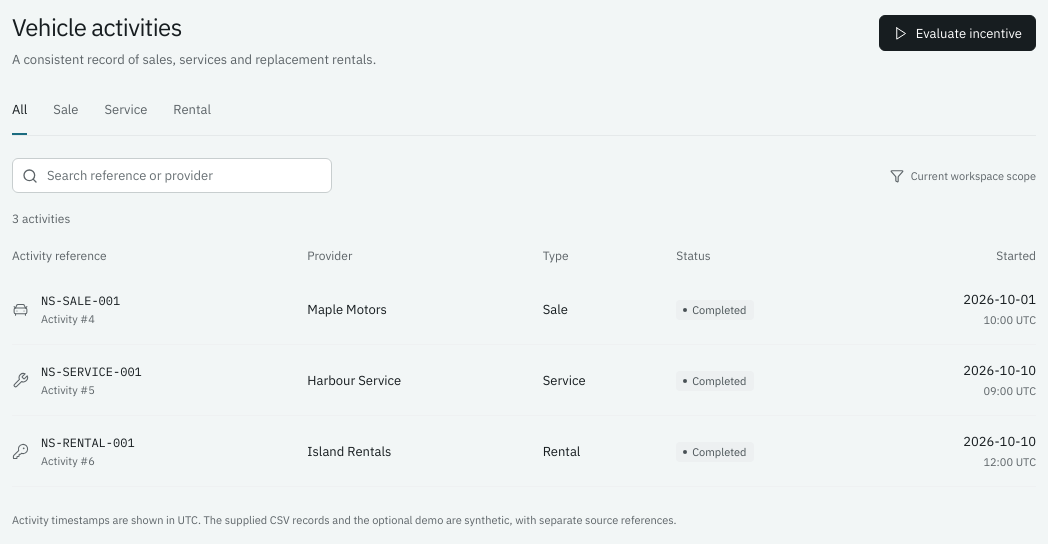
Scenario: operations components › filters activity type through keyboard-capable tabs
Click the tab "Service": (126, 117) x1=104 y1=98 x2=147 y2=135
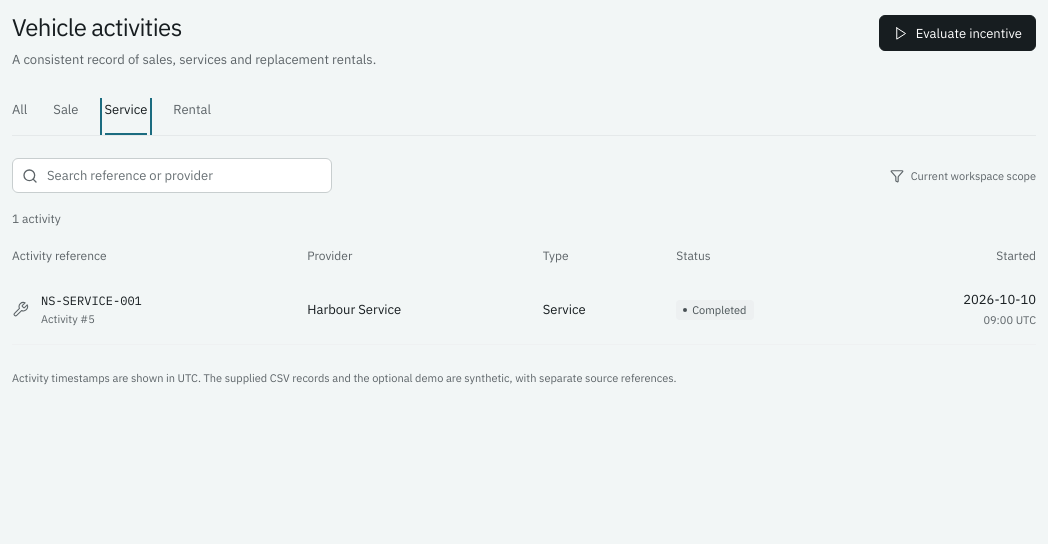
Check: the text "NS-SERVICE-001" is shown, box x1=41 y1=293 x2=142 y2=308
Check: the text "NS-SALE-001" is gone
